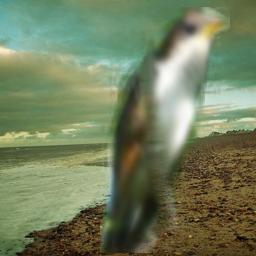Cuckoo: (100, 7, 230, 253)
